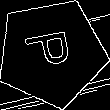P_E: (23, 29, 80, 76)
